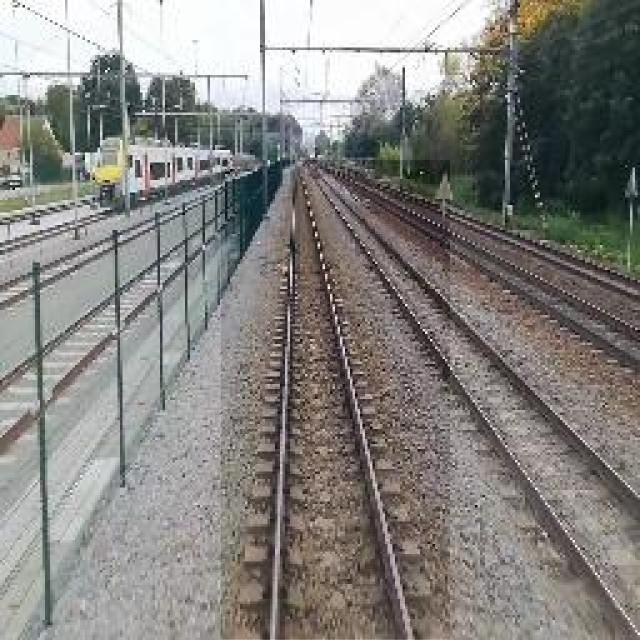rail: (222, 161, 451, 640)
